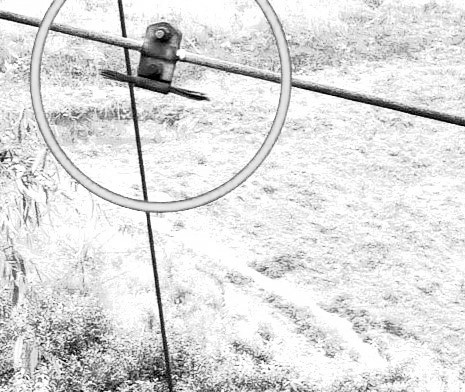Damage of shockproof hammer: (94, 19, 216, 106)
